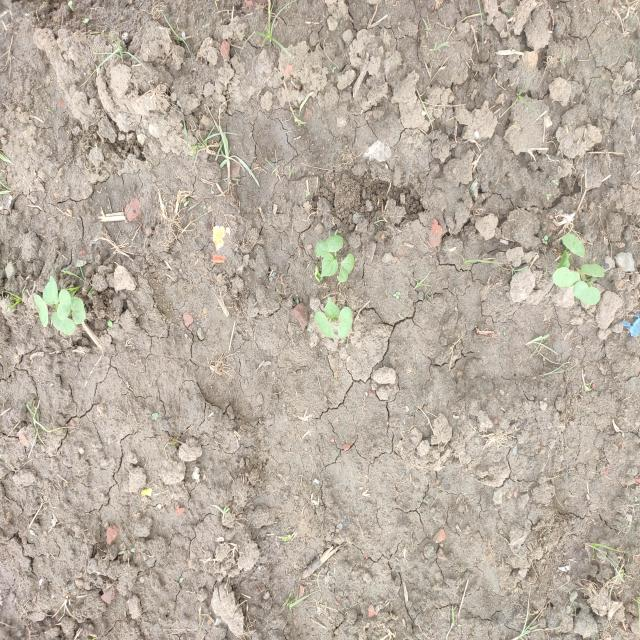seedling_s4: (573, 281, 600, 305), (315, 235, 343, 258), (562, 233, 585, 258), (52, 312, 75, 336), (553, 267, 580, 287), (315, 311, 334, 338), (42, 275, 59, 305), (337, 306, 352, 339), (337, 253, 354, 282), (34, 294, 48, 328), (70, 296, 86, 324), (57, 289, 71, 320), (320, 253, 338, 277), (324, 297, 339, 318), (581, 264, 605, 277), (557, 250, 570, 269)
